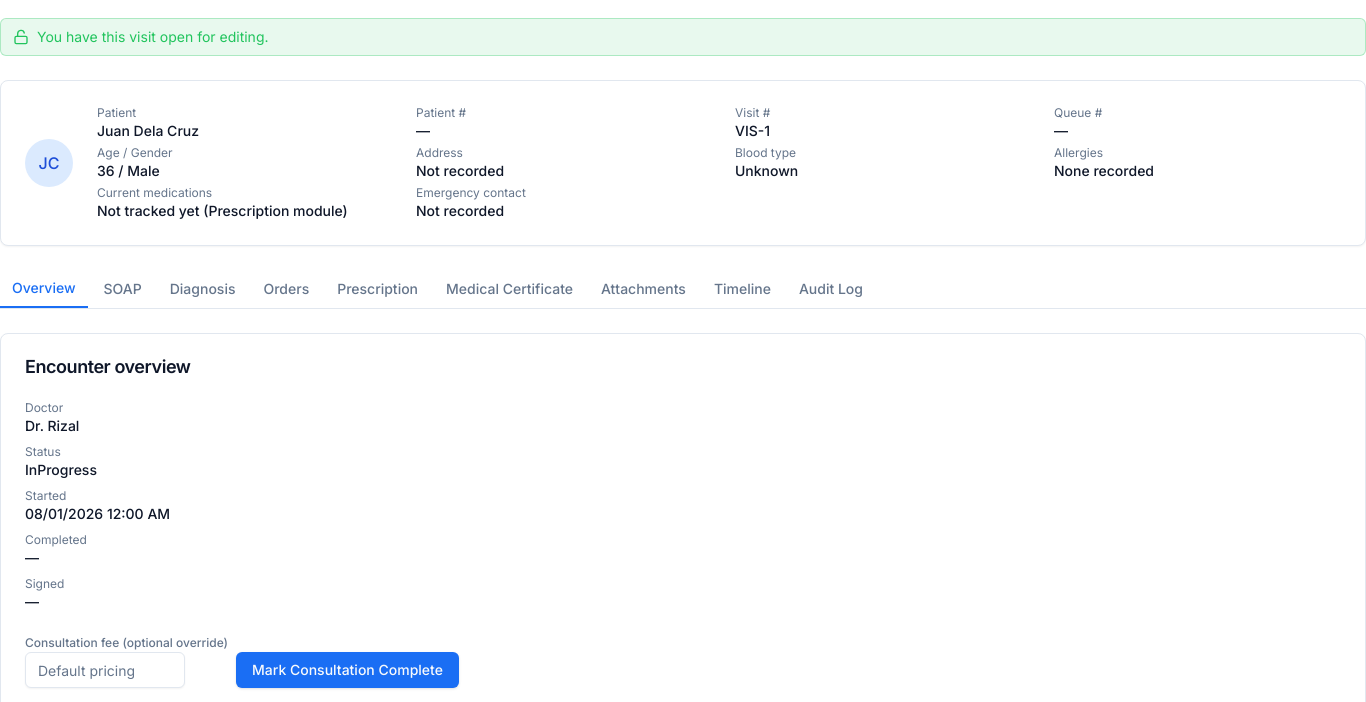
Scenario: ConsultationPage - Doctor Workspace Configuration (per-field SOAP checklist) › hides only the BMI row when BMI is disabled, keeping Height/Weight and BMI's derived-value behavior otherwise unaffected
Click the tab "SOAP" at (123, 289), box [92, 270, 154, 308]
(page scrolled)
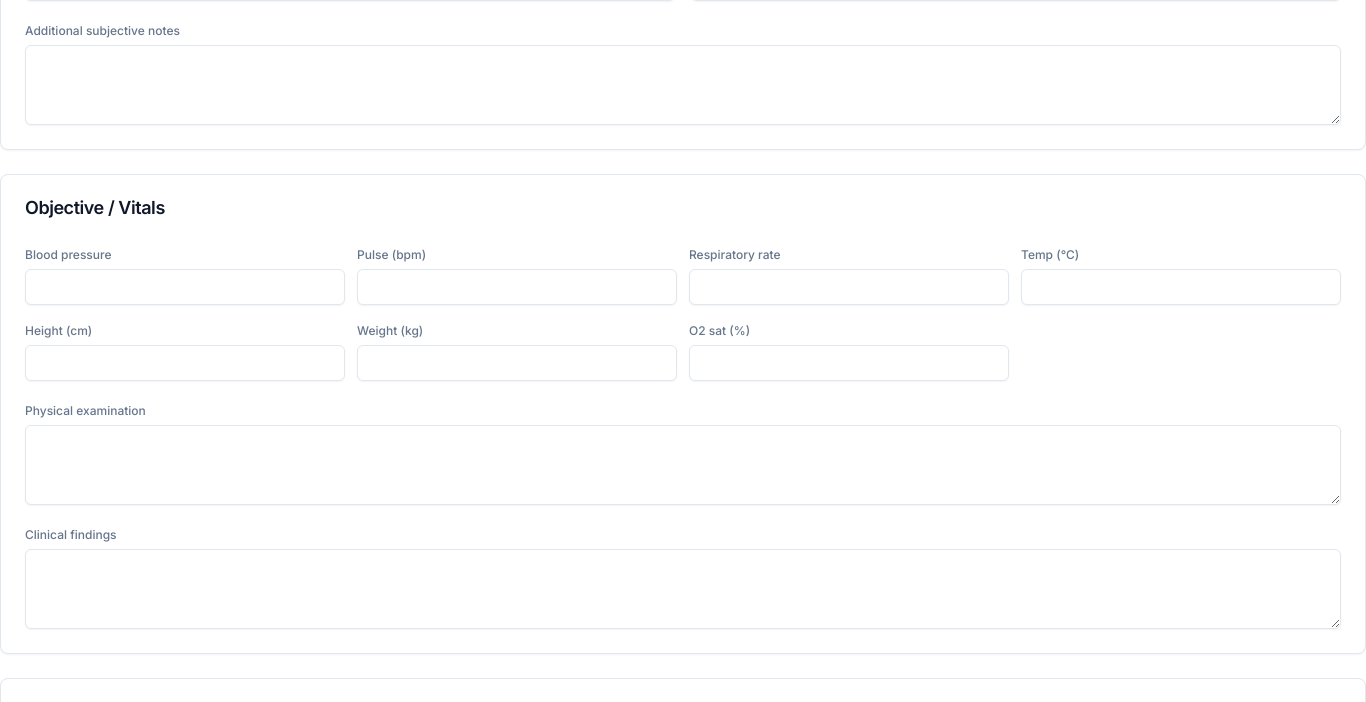
Expected: the text "Height (cm)" is shown, [25, 323, 92, 338]
Expected: the text "Weight (kg)" is shown, [357, 323, 423, 338]
